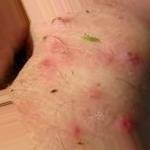Ants: (123, 46, 147, 72), (114, 116, 135, 138), (43, 36, 66, 54), (51, 15, 68, 32), (37, 57, 55, 72), (70, 125, 83, 137), (89, 86, 101, 98), (100, 51, 111, 64)
